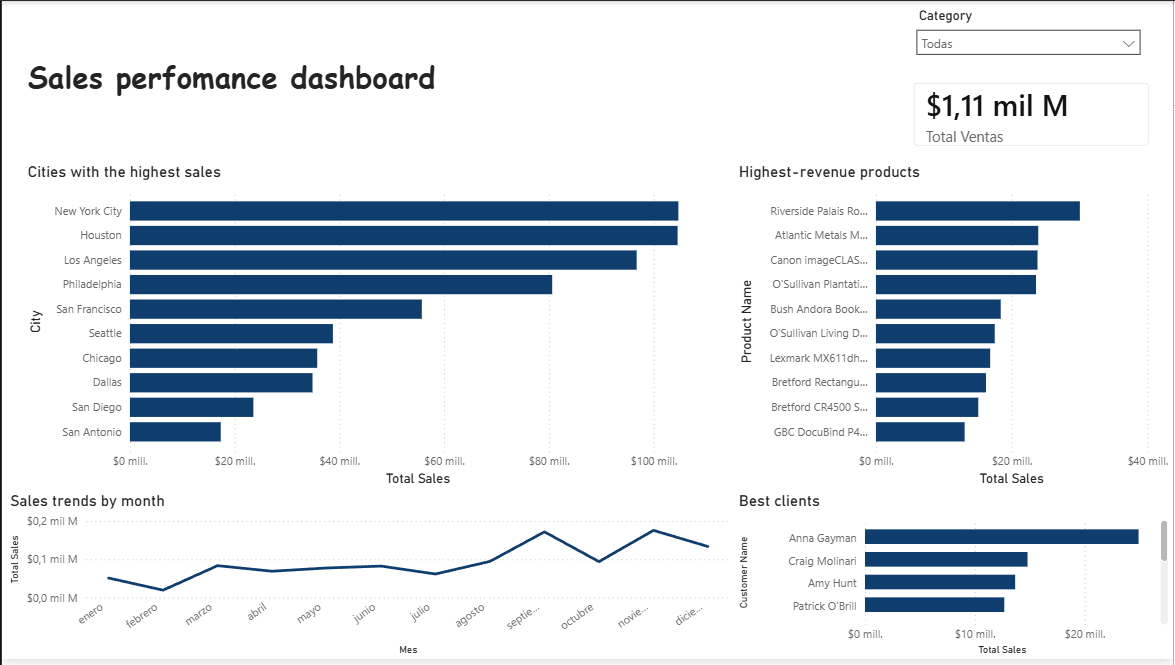

What the dashboard file says about the page in this screenshot:
{"tool":"powerbi","page":{"name":"Página 1","canvas":[1280,720],"ordinal":0},"visuals":[{"type":"cardVisual","fields":{"Data":["train.Total Sales"]},"box":[979.7,72.4,291,103.8],"z":0},{"type":"barChart","title":"Highest-revenue products","fields":{"Category":["train.Product Name"],"Y":["train.Total Sales"]},"box":[800.7,176.3,479.6,359.4],"z":1000},{"type":"barChart","title":"Cities with the highest sales","fields":{"Category":["train.City"],"Y":["train.Total Sales"]},"box":[23.2,176.3,777.5,359.4],"z":2000},{"type":"lineChart","title":"Sales trends by month","fields":{"Category":["train.Order Date.Variación.Jerarquía de fechas.Mes"],"Y":["train.Total Sales"]},"box":[4.1,535.6,796.6,184.5],"z":3000},{"type":"clusteredBarChart","title":"Best clients","fields":{"Y":["train.Total Sales"],"Category":["train.Customer Name"]},"box":[801,535,479,185],"z":4000},{"type":"slicer","fields":{"Values":["train.Category"]},"box":[989.2,2.7,265.1,69.7],"z":5000},{"type":"textbox","box":[23.2,54.7,470,58.8],"z":6000}]}

Visuals, with their boxes in screenshot pixels (x1, y1, x2, y2), scaled from the page's 1280x720 canvas onto the 1175x665 screenshot:
cardVisual - train.Total Sales: box=[899, 67, 1166, 163]
"Highest-revenue products" barChart: box=[735, 163, 1174, 495]
"Cities with the highest sales" barChart: box=[21, 163, 735, 495]
"Sales trends by month" lineChart: box=[4, 495, 735, 664]
"Best clients" clusteredBarChart: box=[735, 494, 1174, 664]
slicer - train.Category: box=[908, 2, 1151, 67]
textbox: box=[21, 51, 453, 105]
